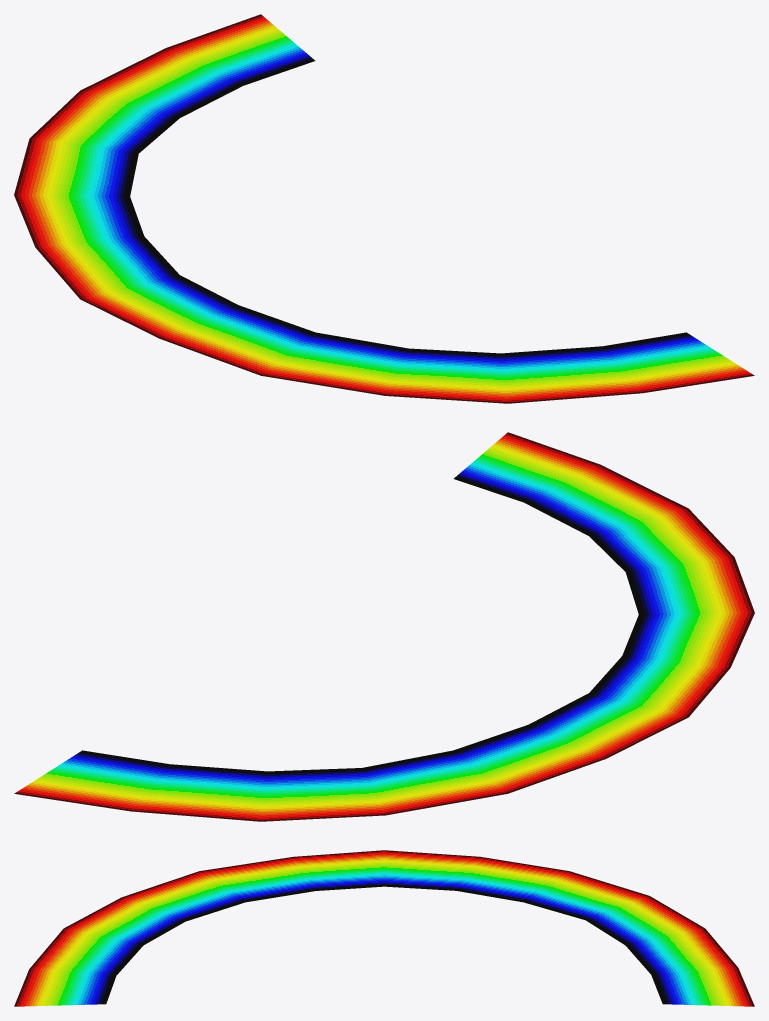
File: rainbow.fbx
3 views of the same model, one above another, from view 1: azimuth 30°, elevation 25°; view 2: azimuth 150°, elevation 25°; view 3: azimuth 270°, elevation 25° (orthographic). The views are drawn at different scales.
Visible parts, largest first — view 1: pPipe1; view 2: pPipe1; view 3: pPipe1.
Part boxes in pixels (bbox=[...]): pPipe1: bbox=[14, 14, 754, 403]; pPipe1: bbox=[14, 432, 754, 821]; pPipe1: bbox=[14, 850, 754, 1006].
Bounding box in the file's own units: 7.56 × 0.0101 × 15.12.
1 material, 1 textured.
